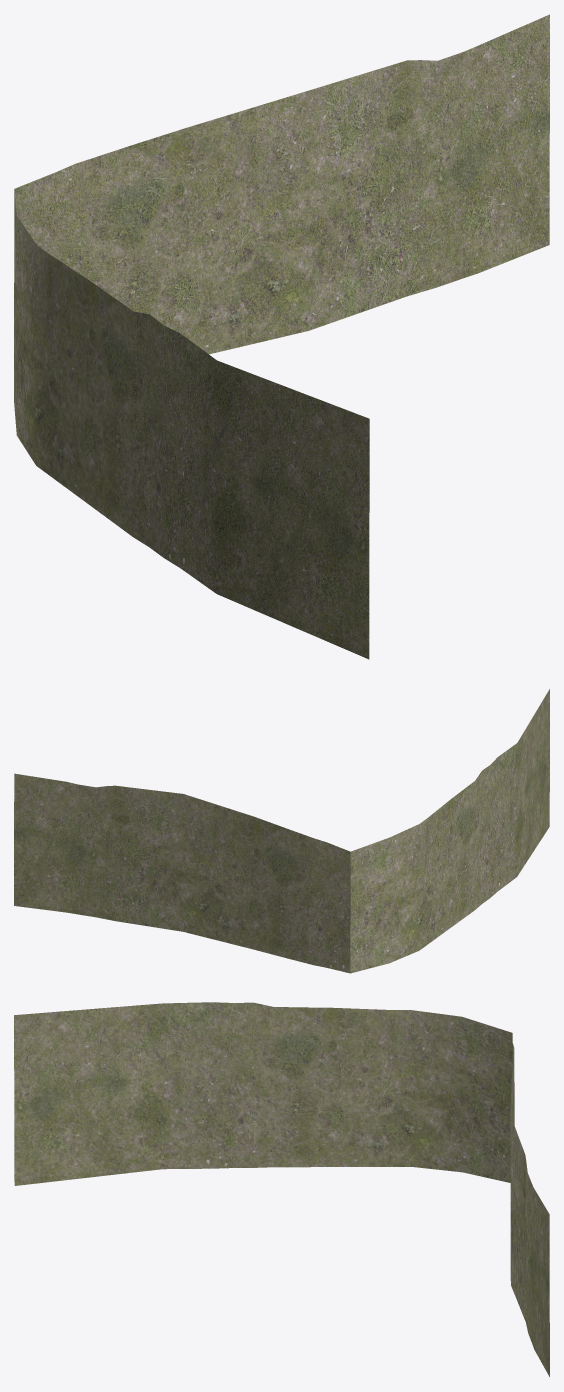
The model's file is SM_Chateaux_01_00.001.fbx.
The picture shows the model from 3 angles, top to bottom: view 1: azimuth 30°, elevation 25°; view 2: azimuth 150°, elevation 25°; view 3: azimuth 270°, elevation 25°; orthographic projection. The views are drawn at different scales.
Visible parts, largest first — view 1: SM_Chateaux_01_00.001; view 2: SM_Chateaux_01_00.001; view 3: SM_Chateaux_01_00.001.
Boxes of the visible parts, box(x1,y1,x2,y2) form: SM_Chateaux_01_00.001: box(14, 14, 549, 659); SM_Chateaux_01_00.001: box(14, 689, 549, 973); SM_Chateaux_01_00.001: box(14, 1002, 549, 1376).
Size of the model in its own units: 11456 by 4345 by 12285.
